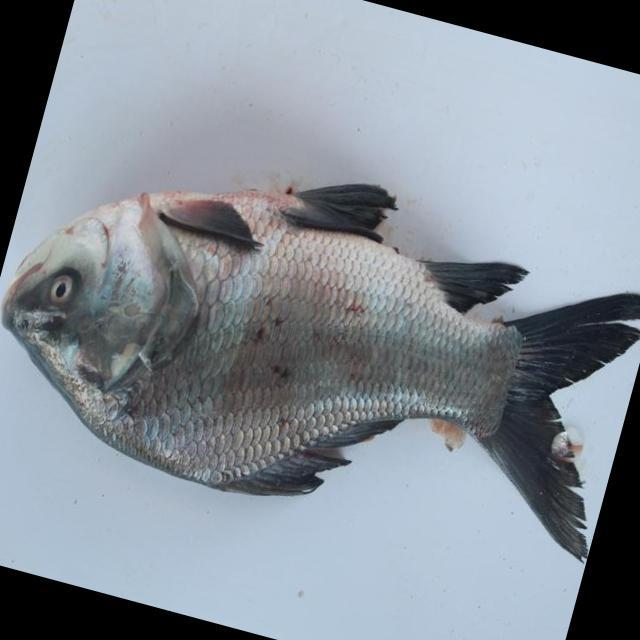Catla: (1, 174, 640, 565)
